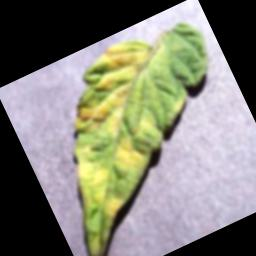Leaf_Mold: (9, 22, 253, 256)
